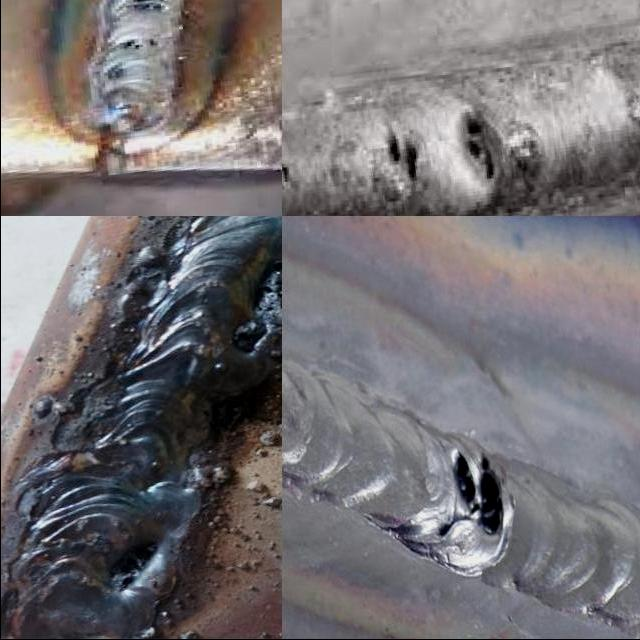defect: (445, 442, 511, 545), (228, 256, 281, 353), (453, 106, 502, 194), (102, 537, 165, 595), (384, 122, 426, 192), (115, 35, 158, 53), (127, 0, 170, 17), (281, 156, 298, 190)
